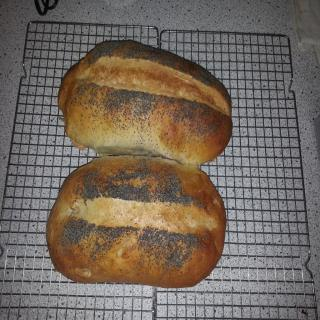Bread: (47, 159, 226, 284), (51, 44, 221, 164)
